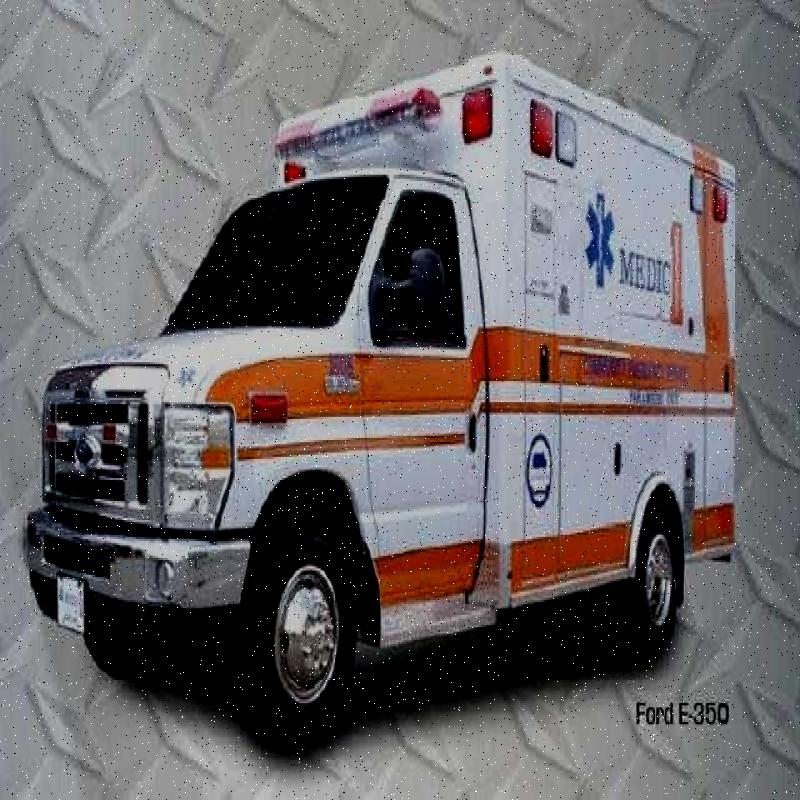AmbulanceSiren: (268, 77, 451, 176)
